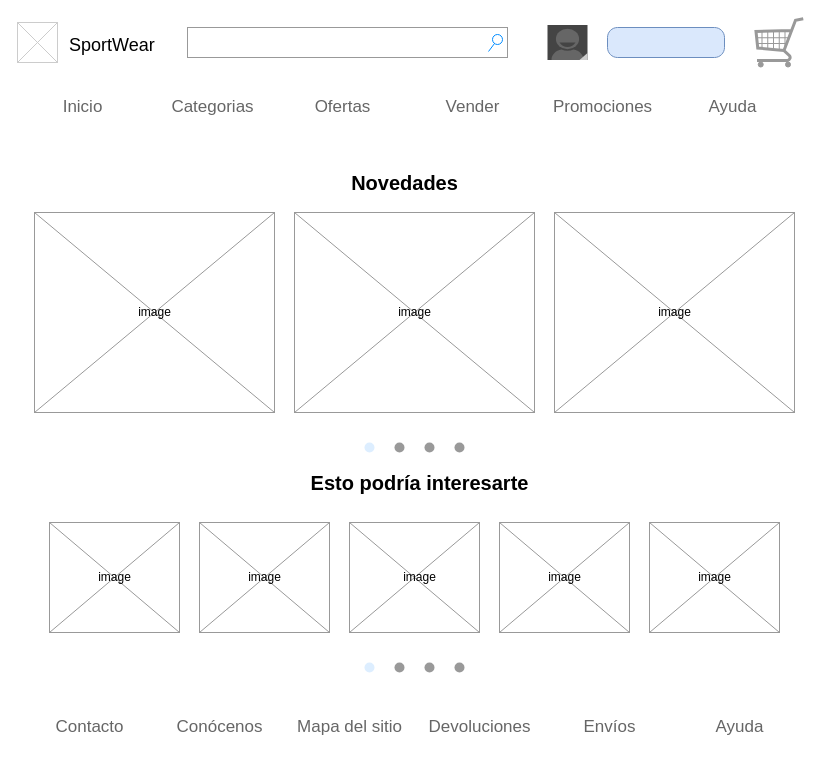
Image size: 822x760. Some labels were removed from this diagram. Here are the shapes that lost their labels. From the top down, the centre of each, then its label:
At point (37, 42): "Logo".
At point (347, 42): "¿Qué estás buscando?".
At point (665, 42): "Login".
